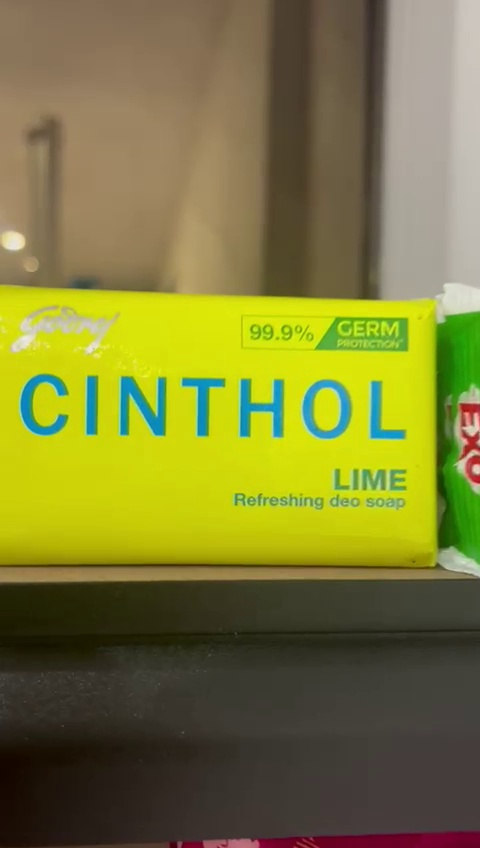Cinthol: (0, 281, 435, 568)
